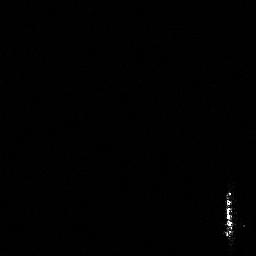ship: (218, 187, 241, 244)
